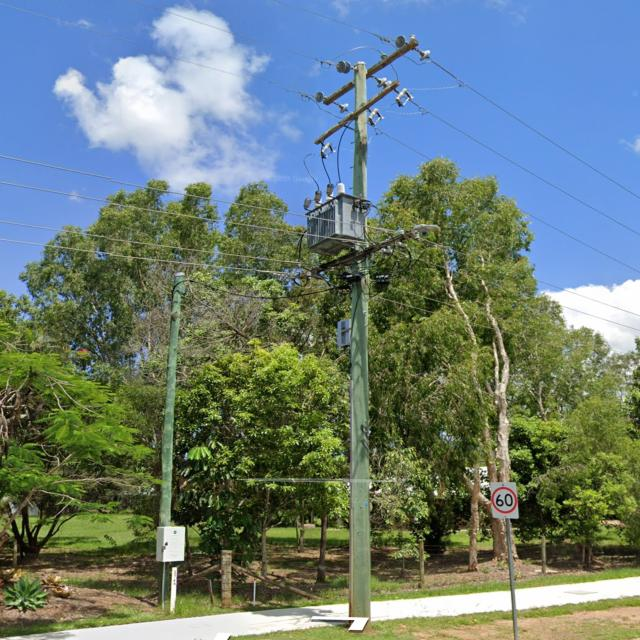HV-transmission: (312, 32, 434, 160)
LV link: (396, 241, 450, 256), (381, 247, 414, 261)
LV link box: (374, 271, 395, 289), (340, 269, 366, 283)
crossarm: (321, 39, 420, 106), (313, 80, 402, 145), (309, 230, 412, 278)
streetlight: (407, 223, 442, 236)
timber-pole: (348, 60, 372, 631), (155, 270, 187, 603)
transformer: (303, 184, 369, 258)
